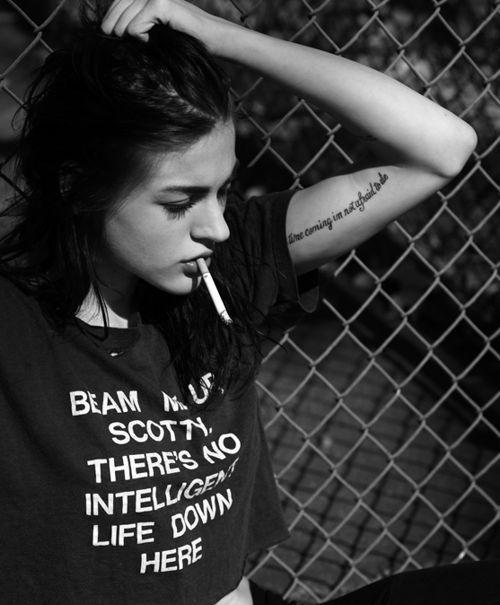cigarette: (196, 257, 233, 325)
